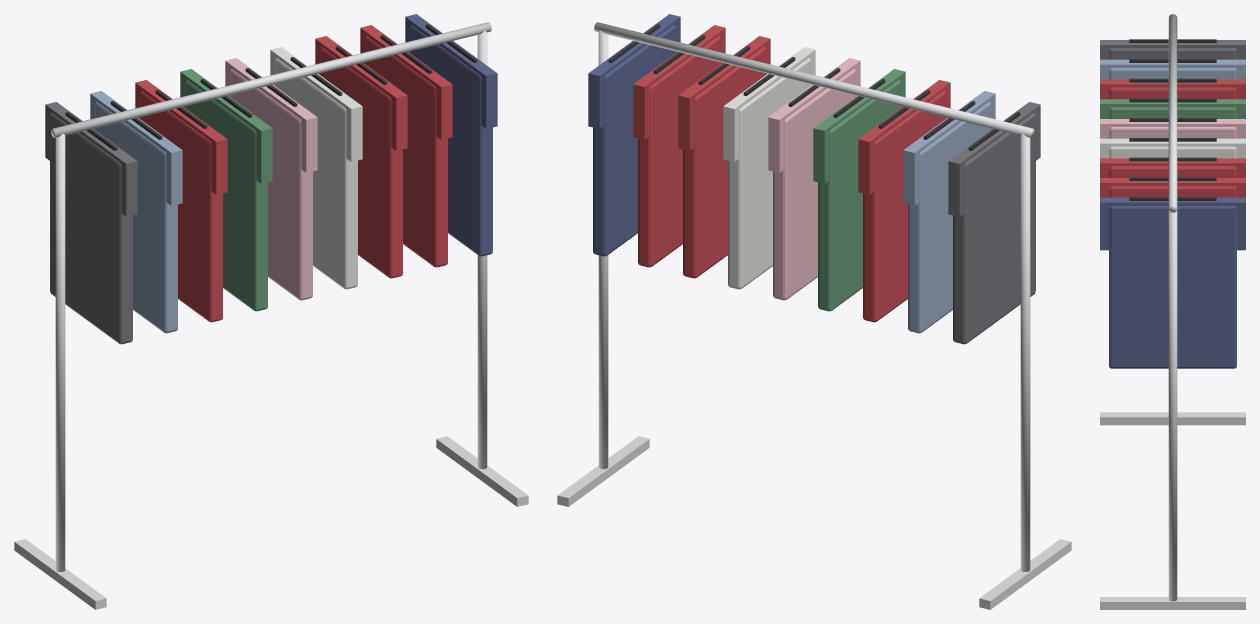
File: clothes_rack.glb
3 views of the same model, side by side, from view 1: azimuth 30°, elevation 25°; view 2: azimuth 150°, elevation 25°; view 3: azimuth 270°, elevation 25° (orthographic). The views are drawn at different scales.
Visible parts, largest first — view 1: clothes_rack; view 2: clothes_rack; view 3: clothes_rack.
Boxes of the visible parts, <box> form: clothes_rack: <box>14,14,528,609</box>; clothes_rack: <box>557,14,1071,609</box>; clothes_rack: <box>1100,14,1245,609</box>.
Size of the model in its own units: 1.55 by 1.53 by 0.5.
